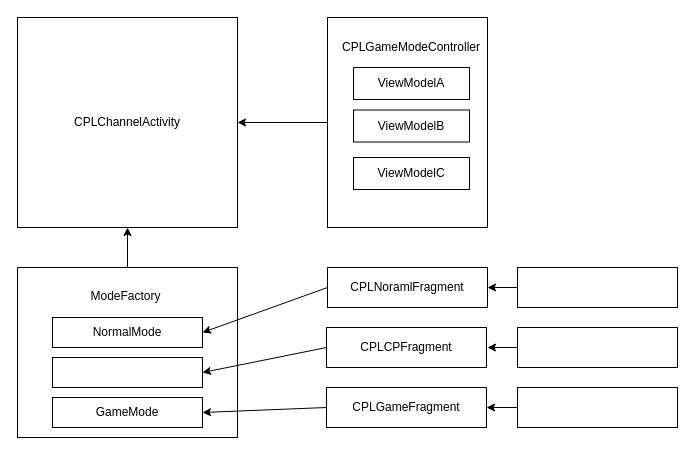
Image size: 695x455. Some labels were removed from this diagram. Each missing label, with the box of its shape:
CPLCPNoramlController: (516, 326, 678, 368)
CPLGameController: (516, 386, 678, 428)
CPLNoramlController: (516, 266, 678, 308)
CPMode: (52, 356, 202, 388)
